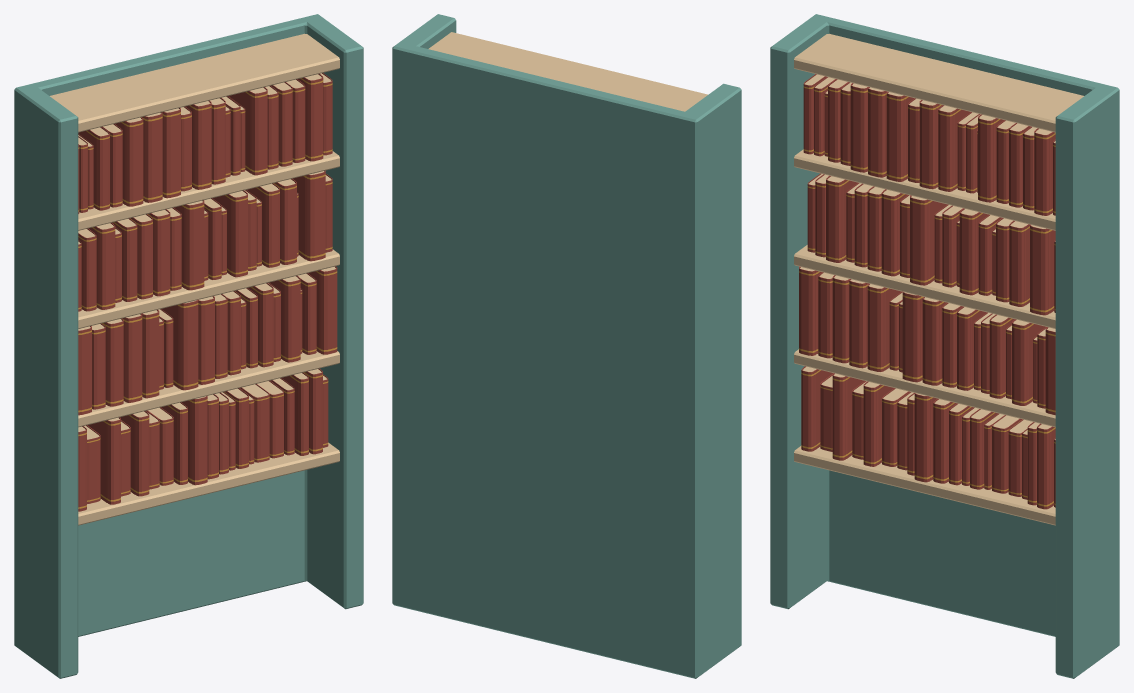
Rendered from cupboard.glb.
3 views of the same model, side by side, from view 1: azimuth 30°, elevation 25°; view 2: azimuth 150°, elevation 25°; view 3: azimuth 330°, elevation 25° (orthographic).
Parts seen in each view (by area): view 1: cupboard, bookBundle.002, bookBundle, bookBundle.001, bookBundle.003; view 2: cupboard; view 3: cupboard, bookBundle.002, bookBundle, bookBundle.003, bookBundle.001.
Boxes of the visible parts, x1,y1,x2,y2 form: cupboard: (14,14,363,678); bookBundle.002: (78,266,337,415); bookBundle: (78,73,332,213); bookBundle.001: (78,170,332,311); bookBundle.003: (78,368,328,511); cupboard: (392,14,741,678); cupboard: (770,14,1119,678); bookBundle.002: (799,266,1055,415); bookBundle: (803,74,1055,215); bookBundle.003: (801,366,1055,509); bookBundle.001: (807,173,1055,315).
Size of the model in its own units: 1.4 by 2.45 by 0.3652.
